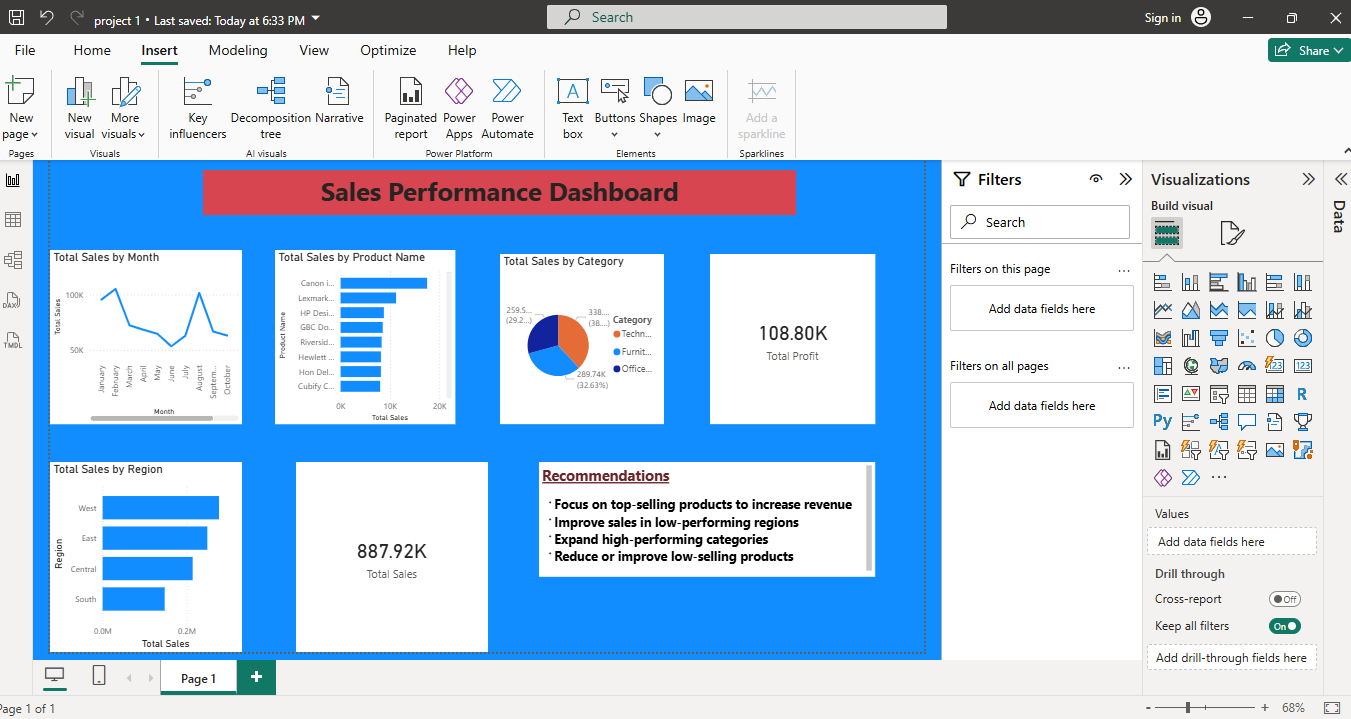

This screenshot's page, from the dashboard's own definition file:
{"tool":"powerbi","page":{"name":"Page 1","canvas":[1280,720],"ordinal":0},"visuals":[{"type":"lineChart","fields":{"Category":["Sample - Superstore.Order Date.Variation.Date Hierarchy.Month"],"Y":["Sample - Superstore.Total Sales"]},"box":[0,131,280.5,255.3],"z":0},{"type":"clusteredBarChart","fields":{"Category":["Sample - Superstore.Product Name"],"Y":["Sample - Superstore.Total Sales"]},"box":[329.2,131,263.7,255.3],"z":1000},{"type":"pieChart","fields":{"Category":["Sample - Superstore.Category"],"Y":["Sample - Superstore.Total Sales"]},"box":[658.5,137.7,240.2,248.6],"z":2000},{"type":"clusteredBarChart","fields":{"Category":["Sample - Superstore.Region"],"Y":["Sample - Superstore.Total Sales"]},"box":[0,441.8,280.5,278.8],"z":3000},{"type":"card","fields":{"Values":["Sample - Superstore.Total Sales"]},"box":[359.5,441.8,280.5,278.8],"z":4000},{"type":"card","fields":{"Values":["Sample - Superstore.Total Profit"]},"box":[965.9,137.7,241.9,248.6],"z":5000},{"type":"textbox","box":[223.4,15.1,868.5,65.5],"z":6000},{"type":"textbox","box":[715.6,441.8,492.2,168],"z":6001}]}

Visuals, with their boxes on the page's 1280x720 design canvas (x1, y1, x2, y2). These are canvas units, not pixel positions in the 1351x719 screenshot, which may show the page scaled, cropped or inside an application window:
lineChart - Sample - Superstore.Order Date.Variation.Date Hierarchy.Month x Sample - Superstore.Total Sales: (0,131,280,386)
clusteredBarChart - Sample - Superstore.Product Name x Sample - Superstore.Total Sales: (329,131,593,386)
pieChart - Sample - Superstore.Category x Sample - Superstore.Total Sales: (658,138,899,386)
clusteredBarChart - Sample - Superstore.Region x Sample - Superstore.Total Sales: (0,442,280,721)
card - Sample - Superstore.Total Sales: (360,442,640,721)
card - Sample - Superstore.Total Profit: (966,138,1208,386)
textbox: (223,15,1092,81)
textbox: (716,442,1208,610)
